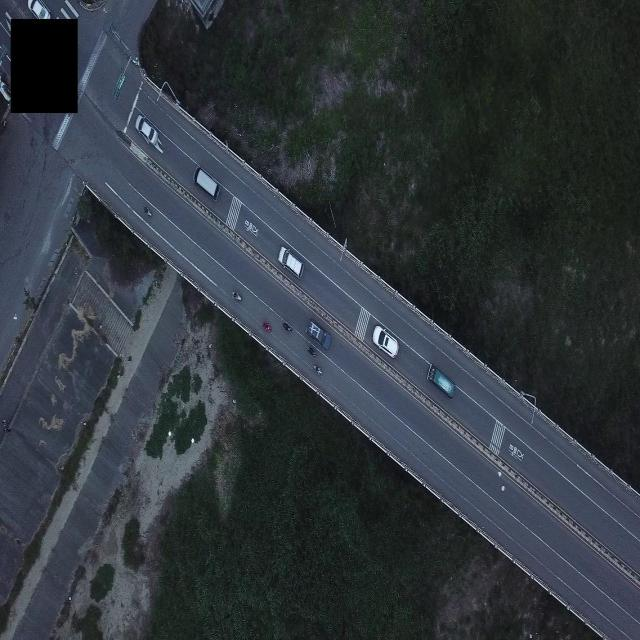bike: (230, 288, 240, 302), (312, 362, 321, 375)
car: (426, 362, 455, 397), (193, 166, 220, 200), (371, 324, 398, 357), (277, 244, 303, 277), (306, 320, 332, 350), (134, 113, 158, 145), (28, 0, 50, 17)
